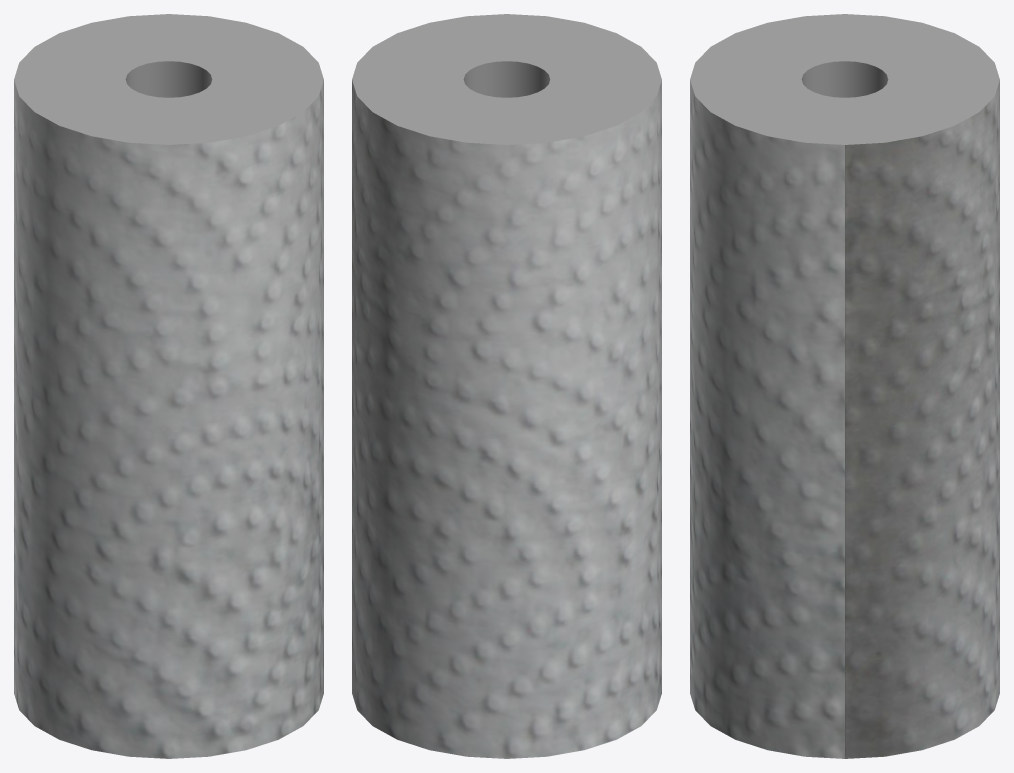
Rendered from paper_towel.dae.
3 renders of one model, left to right at view 1: azimuth 30°, elevation 25°; view 2: azimuth 150°, elevation 25°; view 3: azimuth 270°, elevation 25°, orthographic.
Parts seen in each view (by area): view 1: SketchUp (×3); view 2: SketchUp (×3); view 3: SketchUp (×3).
Part boxes in pixels (x1,y1,x2,y2): SketchUp (×3): [14, 14, 323, 758]; SketchUp (×3): [352, 14, 661, 758]; SketchUp (×3): [690, 14, 999, 758].
Size of the model in its own units: 36.66 by 36.66 by 80.12.
3 materials, 1 textured.
